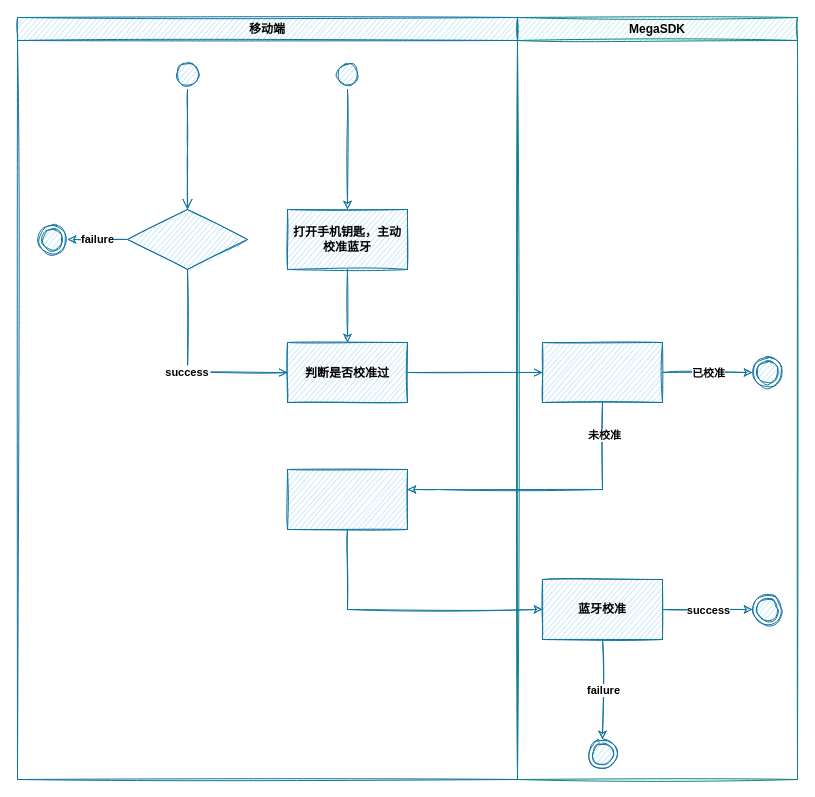
This 815x797 diagram has some shape labels left out. Here are the shapes that lost their labels. From the top down, the centre of each, then its label:
At pixel 187 239: "连接蓝牙".
At pixel 602 372: "蓝牙校准信息".
At pixel 347 499: "校准蓝牙".
